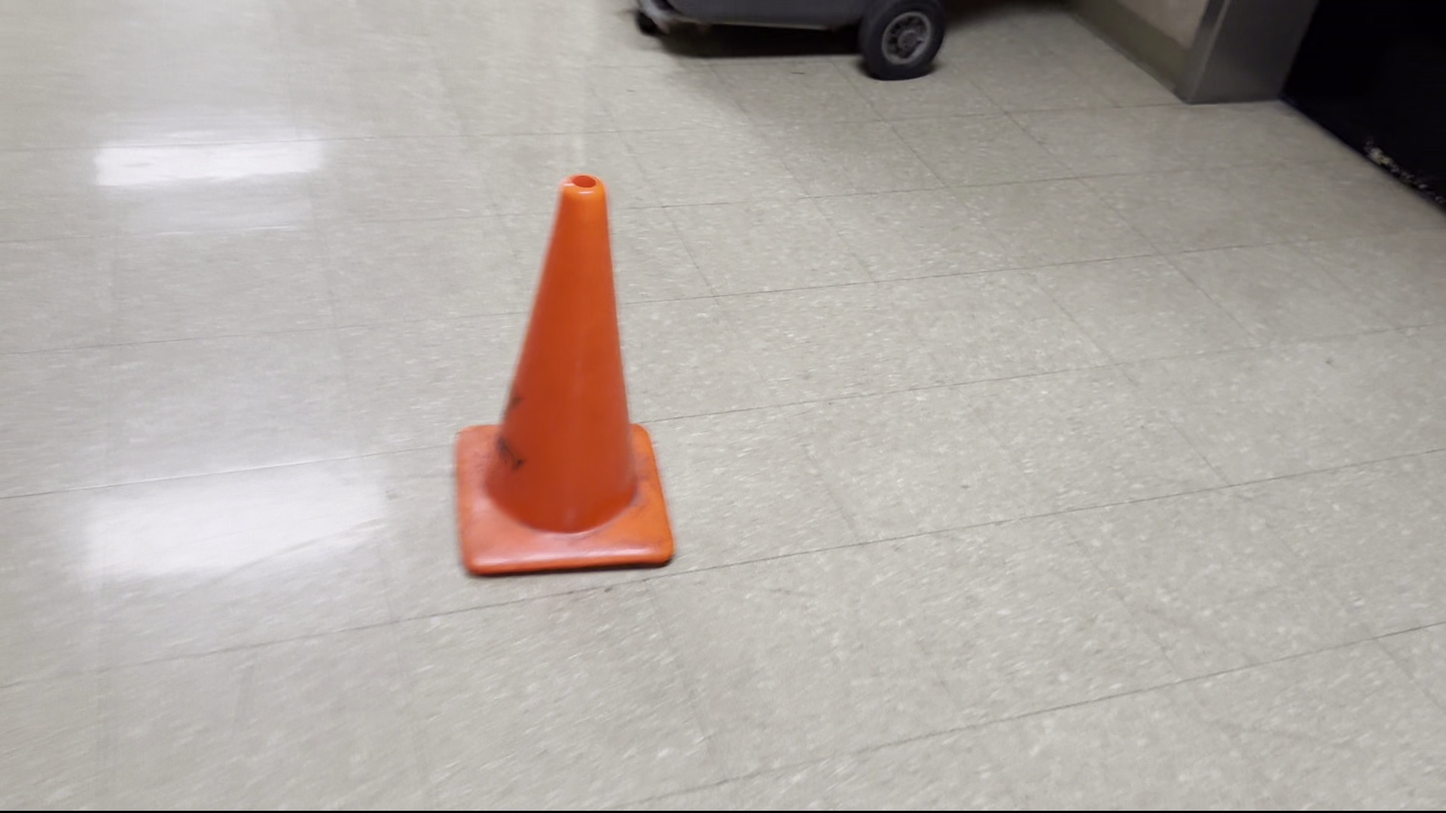traffic_cone: (454, 172, 676, 577)
